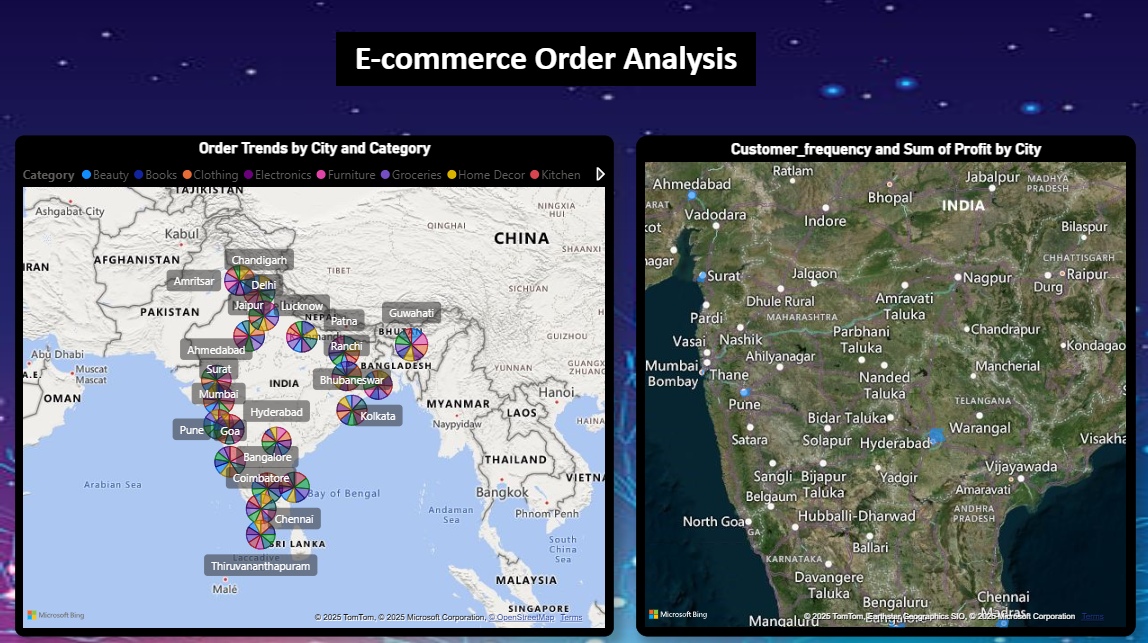

Layout of this report page (visuals, bound fields, positions):
{"tool":"powerbi","page":{"name":"Page 2","canvas":[1280,720],"ordinal":1},"visuals":[{"type":"map","title":"Order Trends by City and Category","fields":{"Series":["Ecommerce_Sales_Data_2024_2025.Category"],"Category":["Ecommerce_Sales_Data_2024_2025.City"],"Size":["Ecommerce_Sales_Data_2024_2025.order_trends"]},"box":[16.7,151.7,665,556.7],"z":0},{"type":"filledMap","fields":{"Category":["Ecommerce_Sales_Data_2024_2025.City"]},"box":[706.7,151.7,555,556.7],"z":1},{"type":"textbox","box":[373.3,36.7,466.7,60],"z":2}]}

Visuals, with their boxes in screenshot pixels (x1, y1, x2, y2), scaled from the page's 1280x720 canvas onto the 1148x643 screenshot:
"Order Trends by City and Category" map: box=[15, 135, 611, 633]
filledMap - Ecommerce_Sales_Data_2024_2025.City: box=[634, 135, 1132, 633]
textbox: box=[335, 33, 753, 86]
